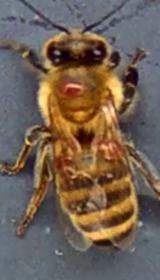varroa_mite: (46, 70, 93, 106), (90, 128, 124, 164), (50, 139, 76, 177)
